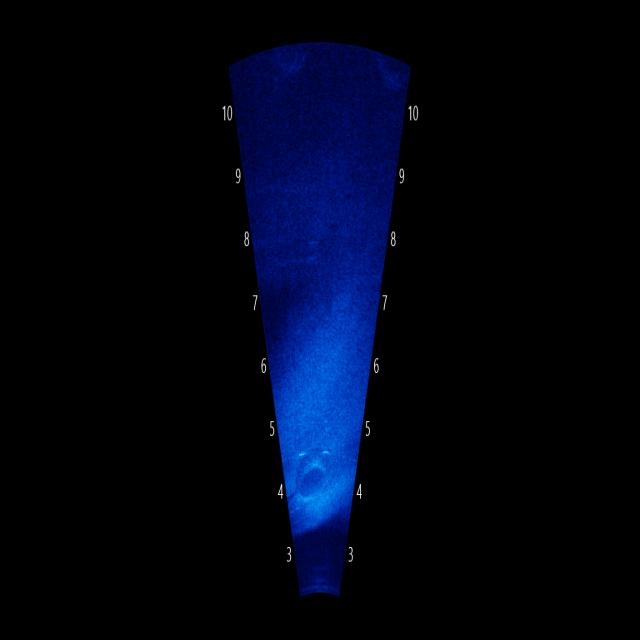circle: (287, 421, 344, 520)
